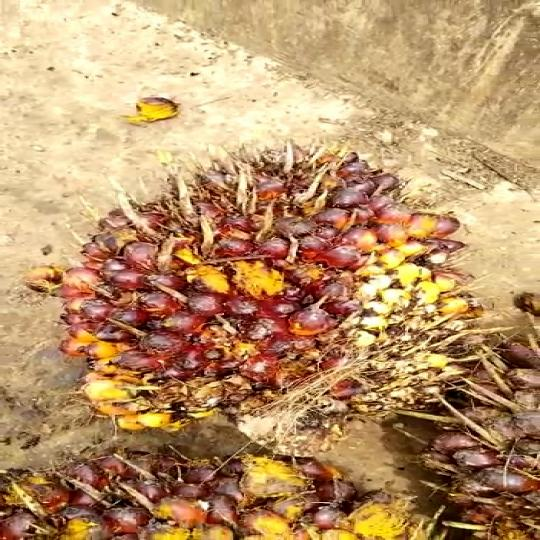masak: (47, 134, 482, 444)
